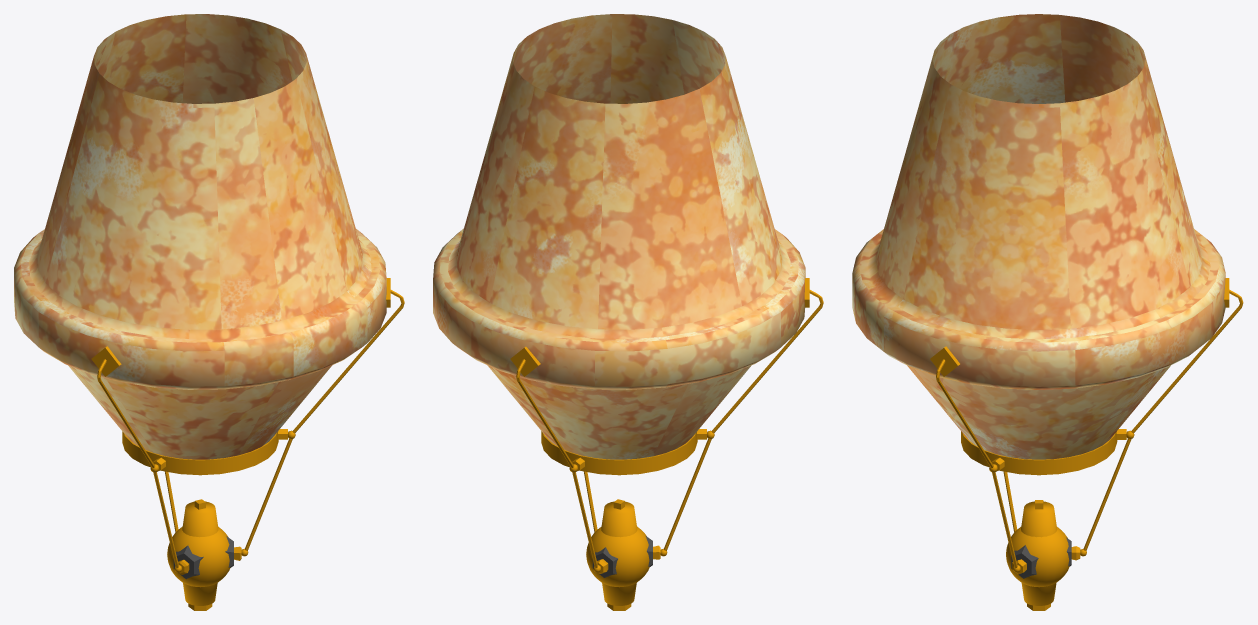
The model's file is lantern_model_2.fbx.
The picture shows the model from 3 angles, left to right: view 1: azimuth 30°, elevation 25°; view 2: azimuth 150°, elevation 25°; view 3: azimuth 270°, elevation 25°; orthographic projection.
Parts seen in each view (by area): view 1: Cylinder, Cube.009; view 2: Cylinder, Cube.009; view 3: Cylinder, Cube.009.
Part boxes in pixels (bbox=[...]): Cylinder: bbox=[14, 14, 386, 459]; Cube.009: bbox=[91, 278, 404, 610]; Cylinder: bbox=[433, 14, 805, 459]; Cube.009: bbox=[510, 278, 823, 610]; Cylinder: bbox=[852, 14, 1225, 459]; Cube.009: bbox=[930, 278, 1243, 610].
Bounding box in the file's own units: 180 × 291 × 189.
